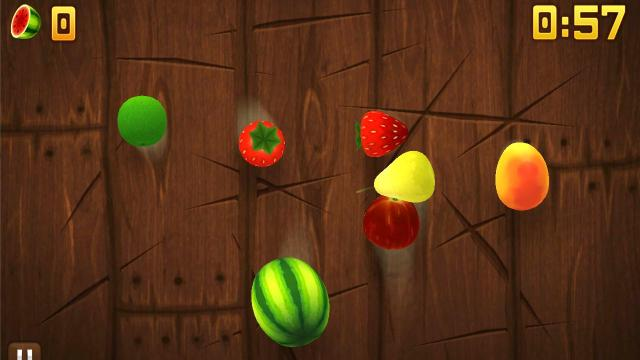fruit: (250, 256, 332, 346), (358, 150, 434, 204), (494, 141, 550, 211), (363, 194, 421, 250), (116, 94, 168, 148), (236, 117, 286, 168), (354, 112, 408, 158)
